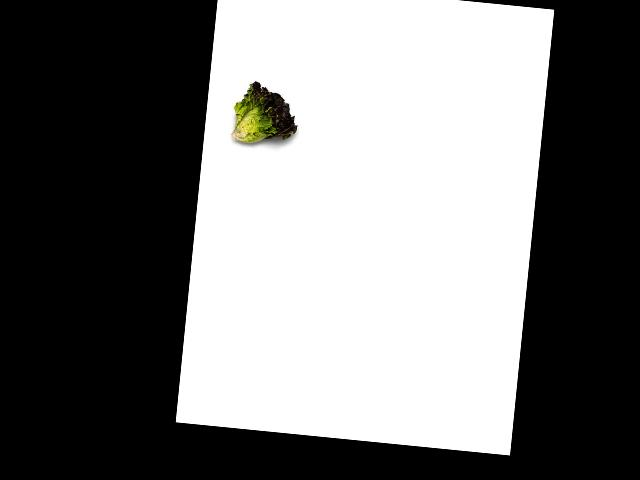lettuce: (228, 80, 305, 148)
